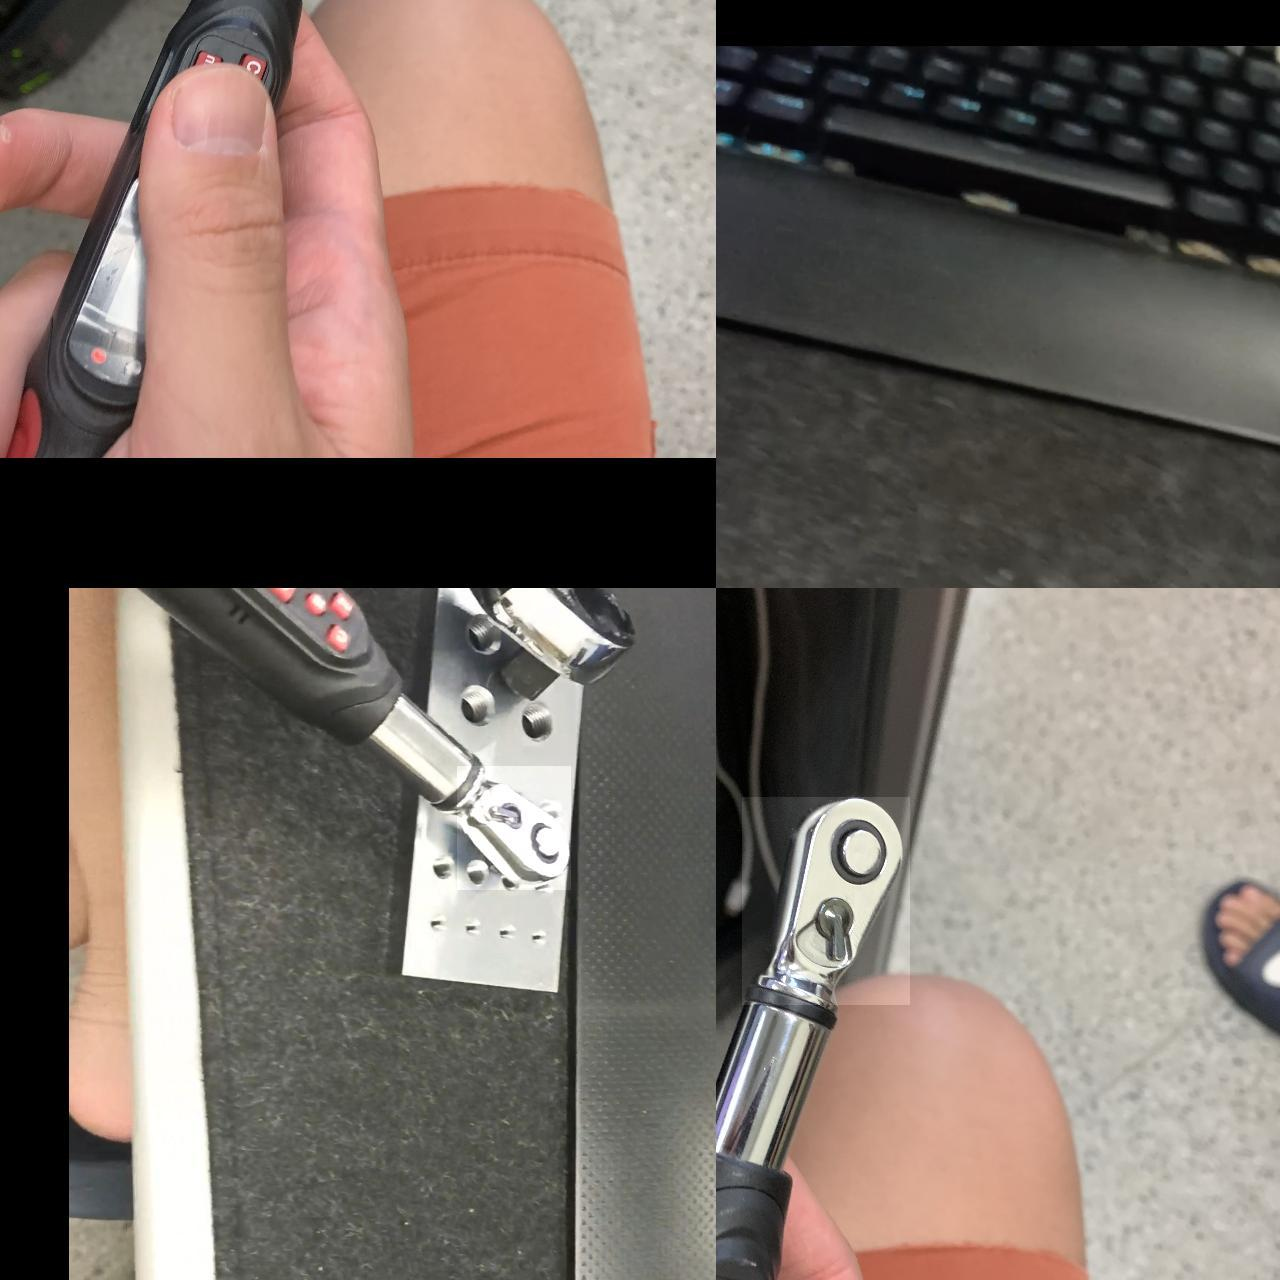Tool: (741, 797, 908, 1005), (425, 588, 633, 706), (456, 765, 570, 890)
